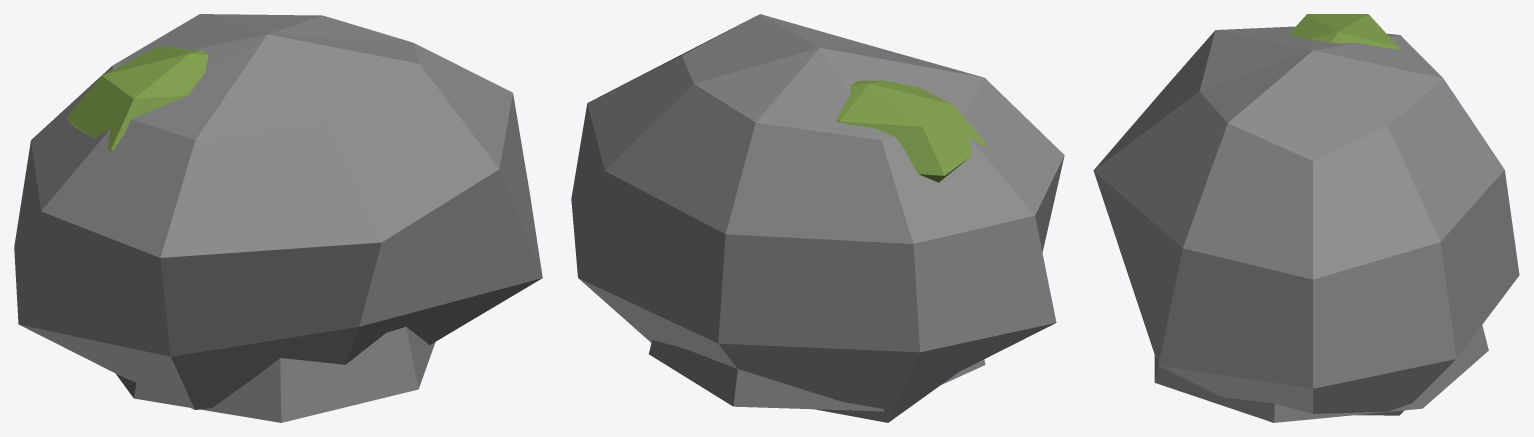
The model's file is stone_m.glb.
The picture shows the model from 3 angles, left to right: view 1: azimuth 30°, elevation 25°; view 2: azimuth 150°, elevation 25°; view 3: azimuth 270°, elevation 25°; orthographic projection. The views are drawn at different scales.
Visible parts, largest first — view 1: Stone; view 2: Stone; view 3: Stone.
Boxes of the visible parts, <box> form: Stone: <box>14,14,542,422</box>; Stone: <box>571,14,1064,422</box>; Stone: <box>1093,14,1519,422</box>.
Size of the model in its own units: 13.74 by 8.96 by 10.3.
